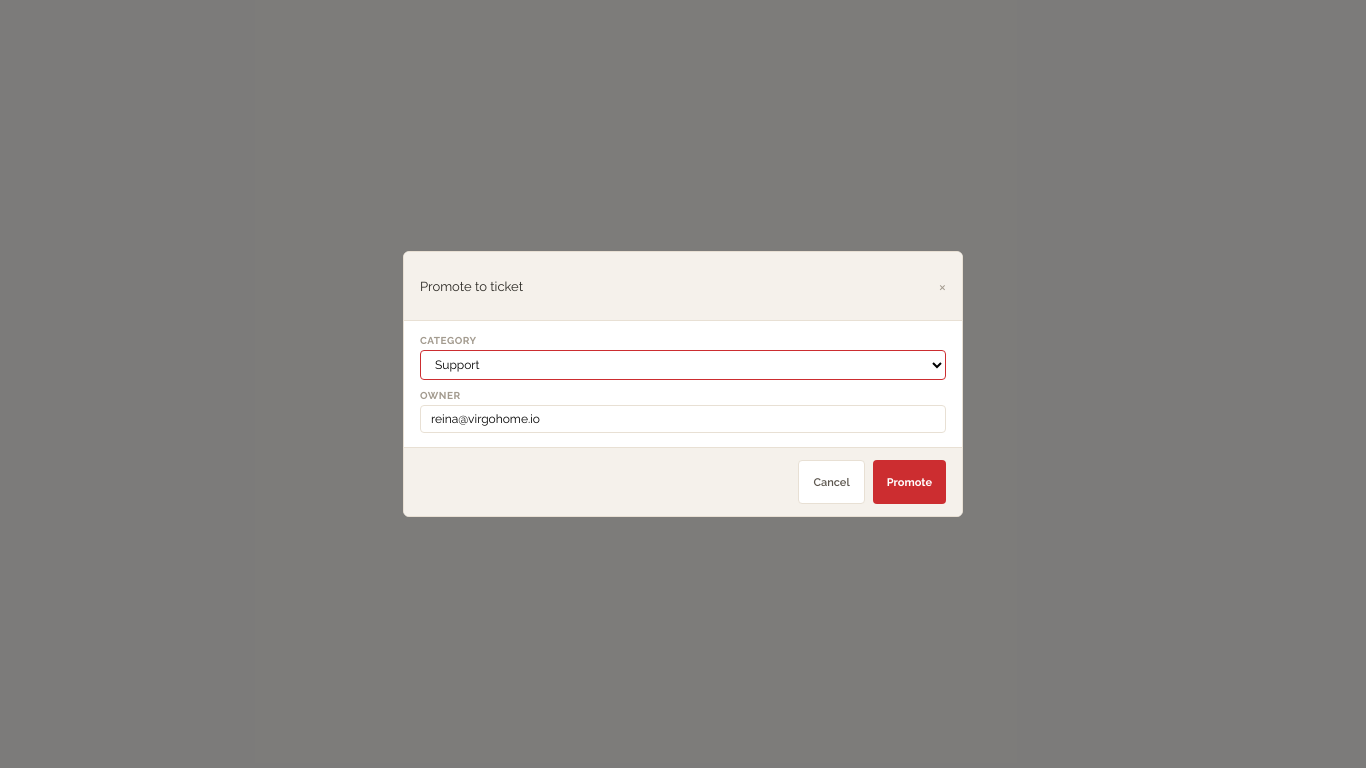
it: PromoteToTicketModal › falls back to a generic message when a non-Error is thrown
This screenshot has width=1366, height=768.
Click the button "Promote". click: (909, 482)
box: [873,460,946,504]
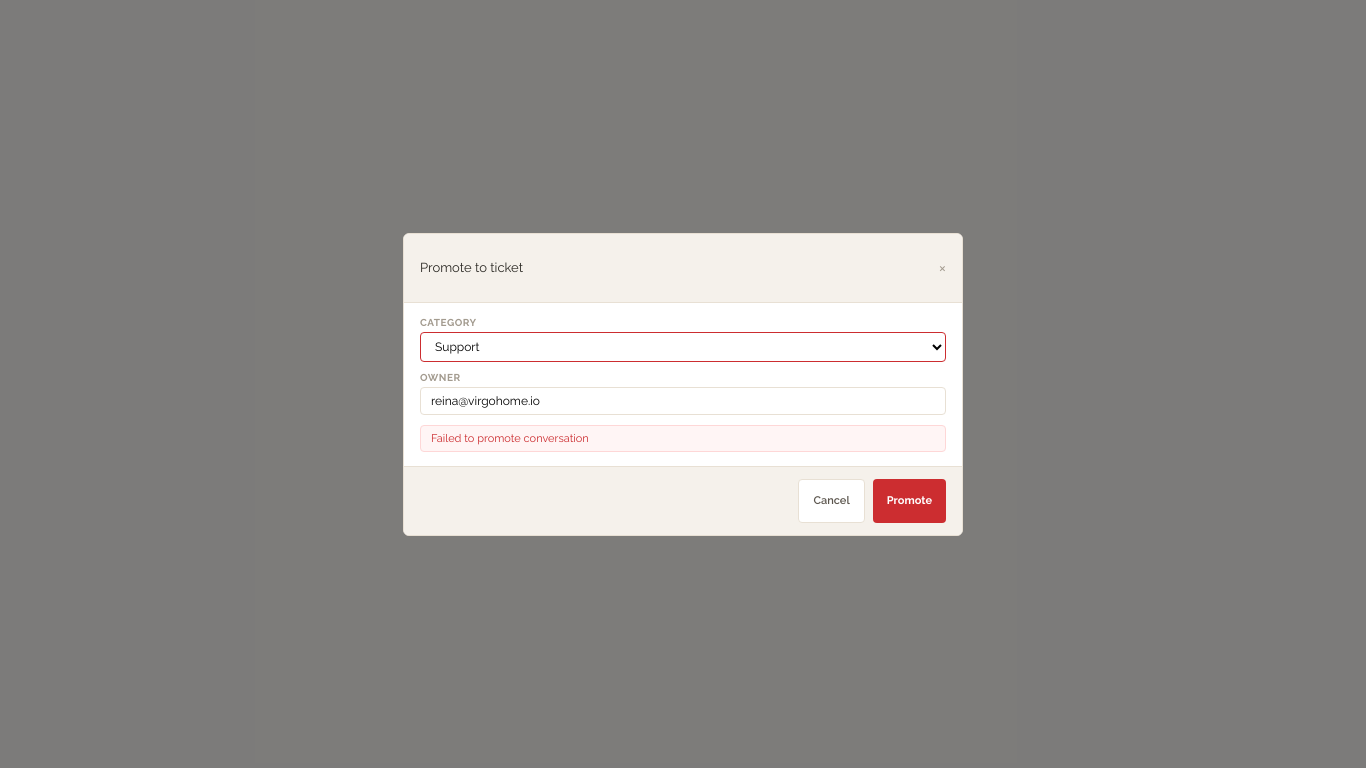
Expected: the text "Failed to promote conversation" is shown, [420,424,946,452]
